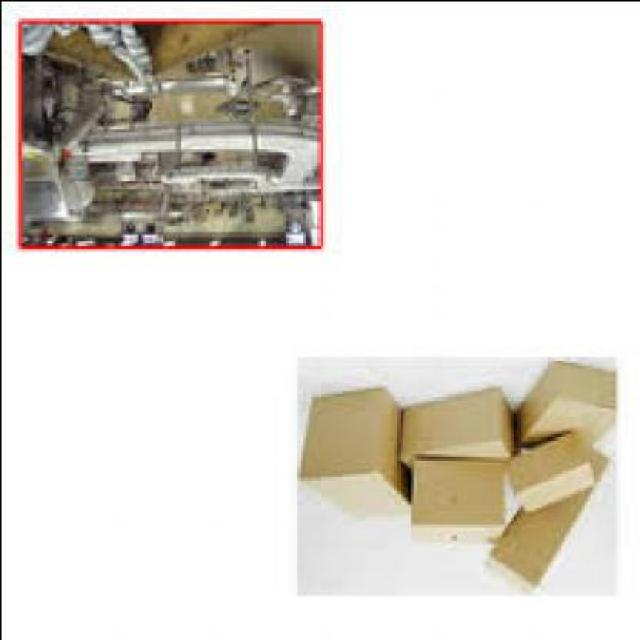CARDBOARD: (483, 450, 606, 592), (296, 390, 410, 521), (392, 390, 512, 472), (512, 362, 614, 456), (404, 458, 501, 547), (503, 430, 592, 512)
